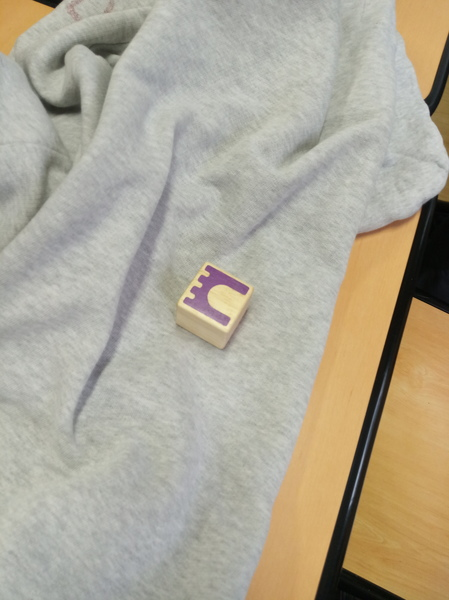violet: (178, 262, 254, 340)
